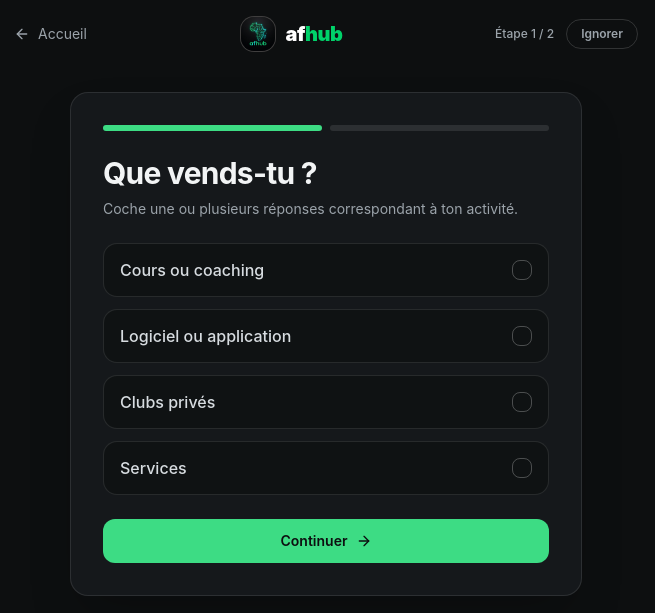
Test: onboarding — bouton Ignorer › mène directement à la page de connexion depuis l'étape 2
Later steps or results of the test are not shown.
Step 1. Click the checkbox labelled "Cours ou coaching" → [192, 270], box x1=103 y1=243 x2=549 y2=297
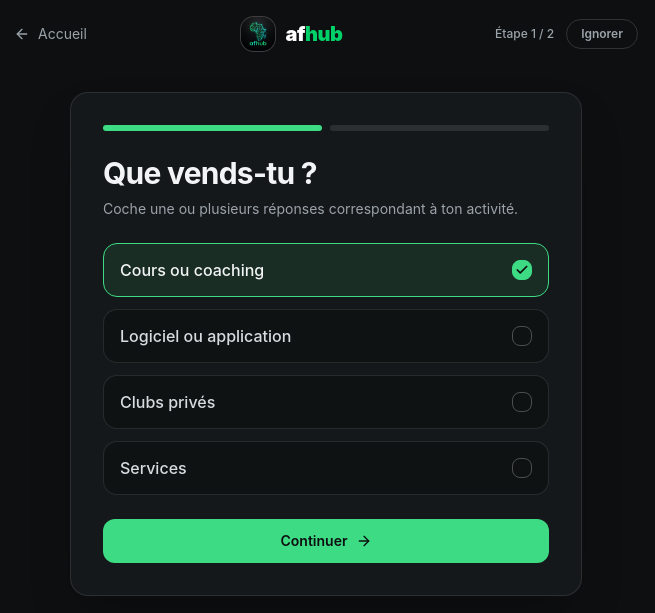
Step 2. Click the button "Continuer" → [326, 541], box x1=103 y1=519 x2=549 y2=563
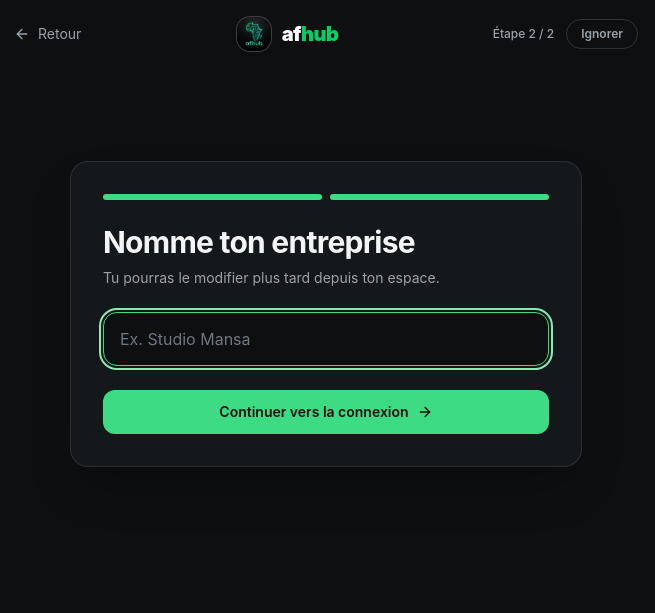
Expected: the heading "Nomme ton entreprise" is shown, x1=103 y1=224 x2=415 y2=260
